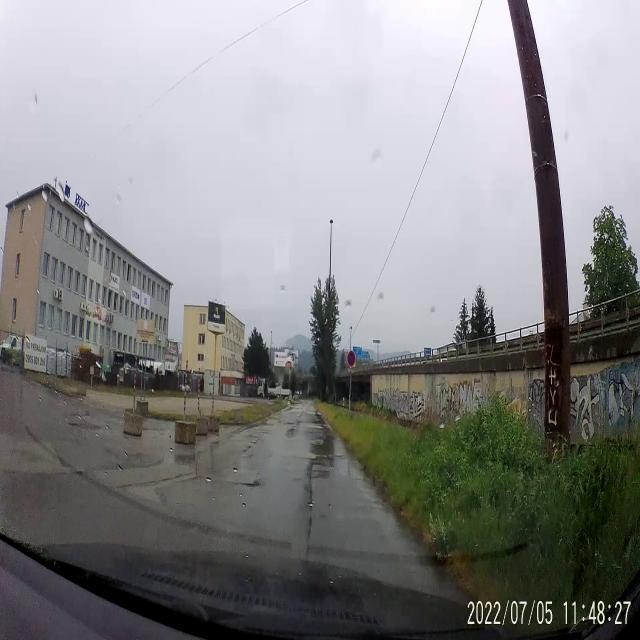Pothole: (304, 457, 336, 489), (228, 474, 265, 498), (240, 437, 258, 457), (286, 420, 300, 442), (311, 418, 326, 426)
